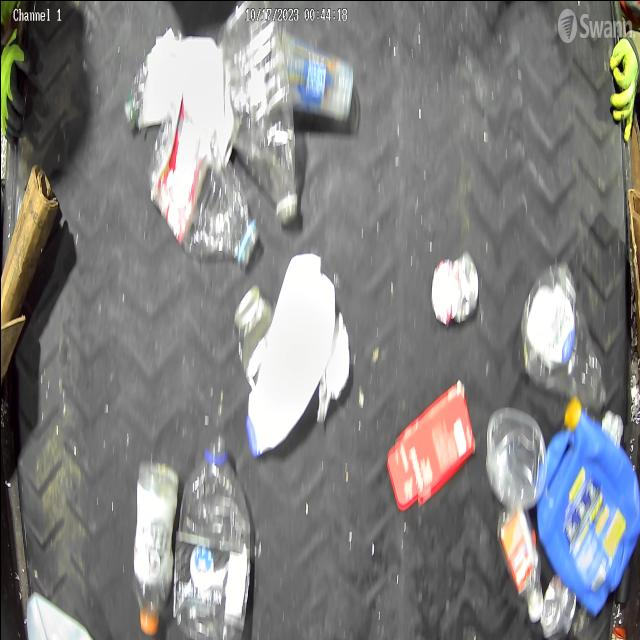can: (233, 283, 276, 387), (430, 250, 479, 324)
milk_jug: (246, 252, 334, 456), (26, 595, 94, 640)
non_white_jug: (538, 404, 640, 618)
plastic_bottle: (146, 96, 258, 262), (180, 430, 251, 640), (232, 18, 299, 222), (519, 259, 609, 409), (131, 460, 177, 634), (495, 501, 545, 622)
